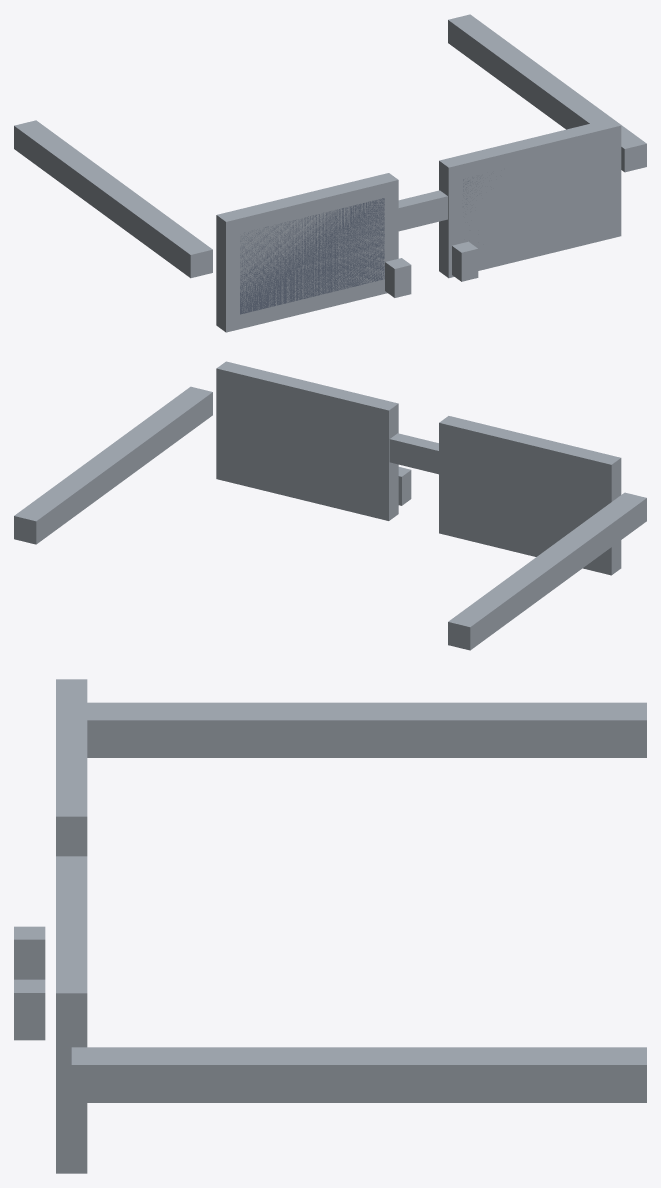
File: rectanglefrost.glb
The picture shows the model from 3 angles, top to bottom: view 1: azimuth 30°, elevation 25°; view 2: azimuth 150°, elevation 25°; view 3: azimuth 270°, elevation 25°; orthographic projection. The views are drawn at different scales.
Parts seen in each view (by area): view 1: rectangle-frost; view 2: rectangle-frost; view 3: rectangle-frost.
Part boxes in pixels (bbox=[...]): rectangle-frost: bbox=[14, 14, 646, 332]; rectangle-frost: bbox=[14, 361, 646, 650]; rectangle-frost: bbox=[14, 679, 646, 1173].
Bounding box in the file's own units: 1.64 × 0.38 × 1.21.
